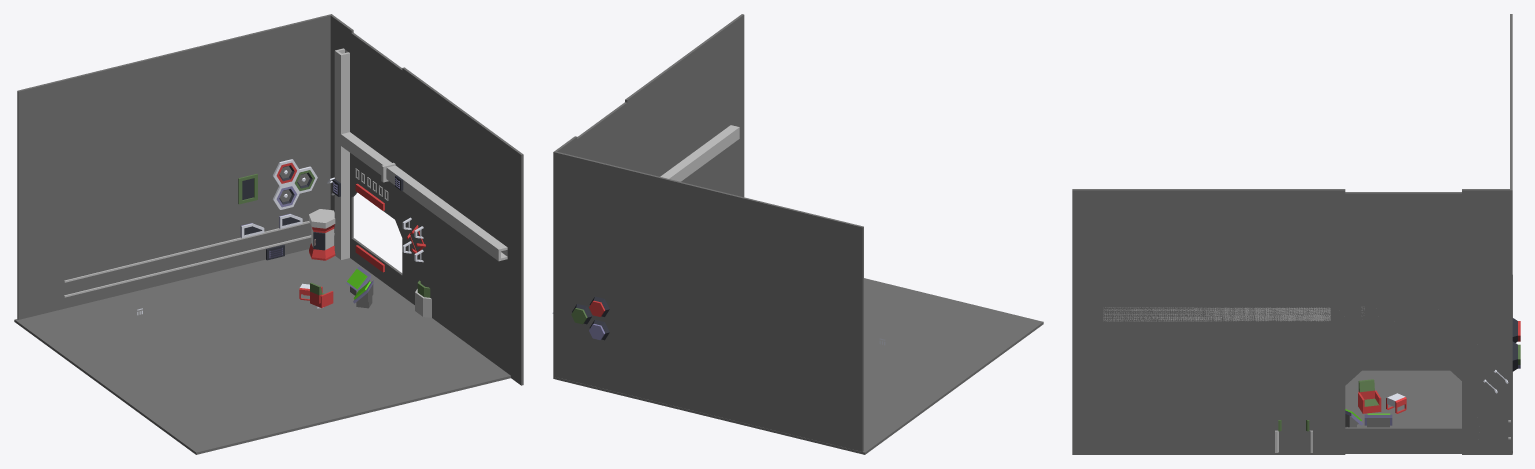
Rendered from SpaceShip_test2.glb.
The picture shows the model from 3 angles, left to right: view 1: azimuth 30°, elevation 25°; view 2: azimuth 150°, elevation 25°; view 3: azimuth 270°, elevation 25°; orthographic projection. The views are drawn at different scales.
Visible parts, largest first — view 1: roof_flatCenter (×6), block_tube (×2), columns_large (×2), hexagon_overhang, window_small; view 2: roof_flatCenter (×4), block_tube; view 3: roof_flatCenter (×7), block_tube.
Part boxes in pixels (x1,y1,x2,y2): roof_flatCenter (×6): (14, 14, 523, 454); block_tube (×2): (334, 48, 507, 261); columns_large (×2): (64, 183, 384, 297); hexagon_overhang: (309, 209, 335, 240); window_small: (238, 174, 257, 204); roof_flatCenter (×4): (553, 14, 1043, 454); block_tube: (660, 125, 739, 181); roof_flatCenter (×7): (1072, 14, 1512, 454); block_tube: (1103, 307, 1330, 321).
Size of the model in its own units: 14.24 by 9.85 by 15.04.
